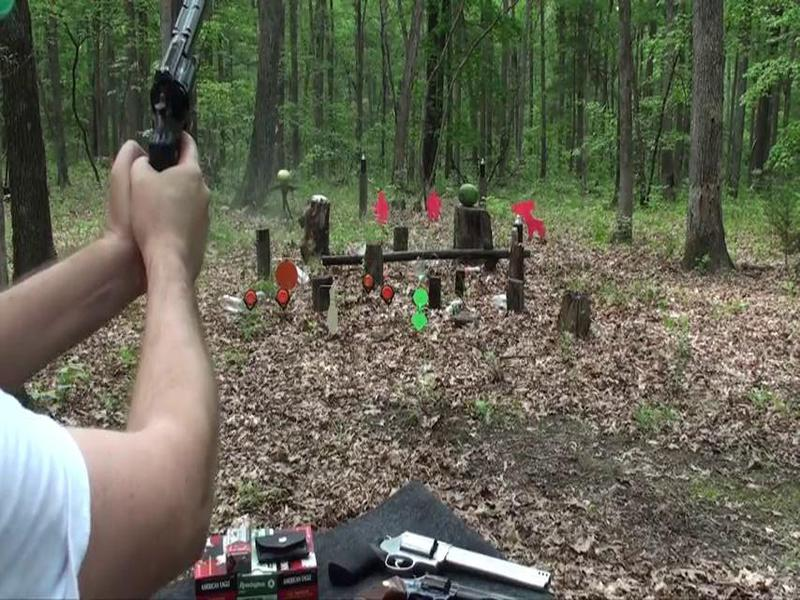Revolver: (136, 1, 228, 192)
